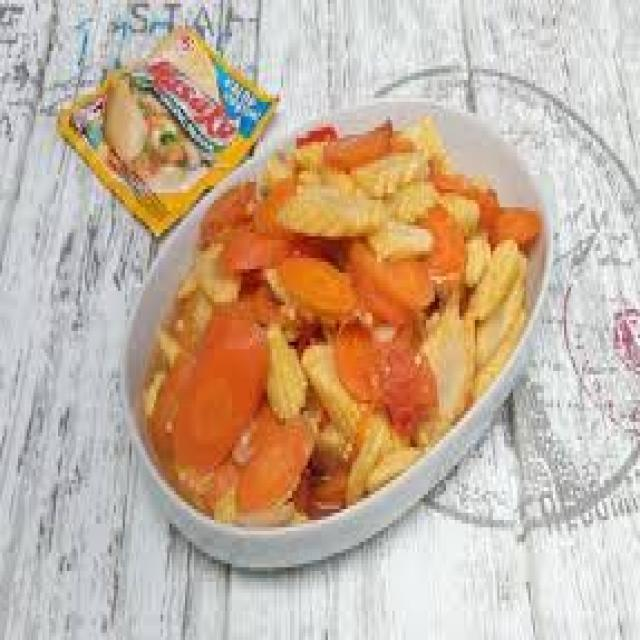wortel: (164, 126, 516, 482)
